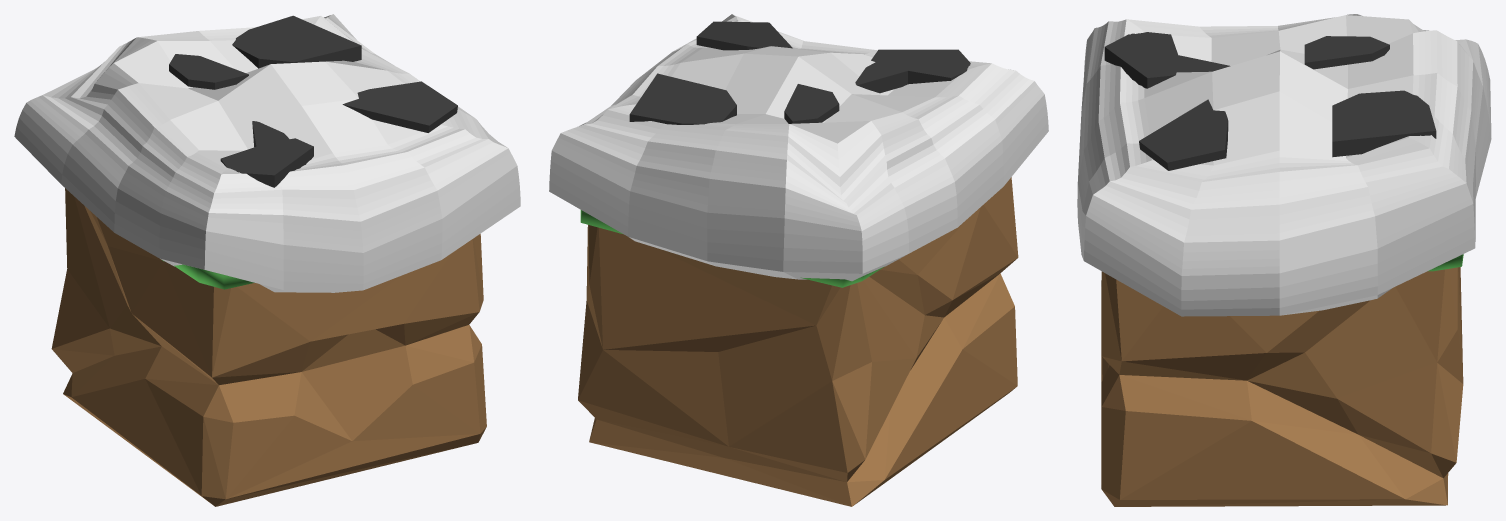
The model's file is TileMagmaLvl2.fbx.
3 renders of one model, left to right at view 1: azimuth 30°, elevation 25°; view 2: azimuth 150°, elevation 25°; view 3: azimuth 270°, elevation 25°, orthographic. The views are drawn at different scales.
Visible parts, largest first — view 1: TmagmaLvl2; view 2: TmagmaLvl2; view 3: TmagmaLvl2.
Boxes of the visible parts, bbox=[...] form: TmagmaLvl2: bbox=[14, 14, 520, 506]; TmagmaLvl2: bbox=[549, 14, 1048, 506]; TmagmaLvl2: bbox=[1077, 14, 1491, 506].
Size of the model in its own units: 123 by 119 by 116.
